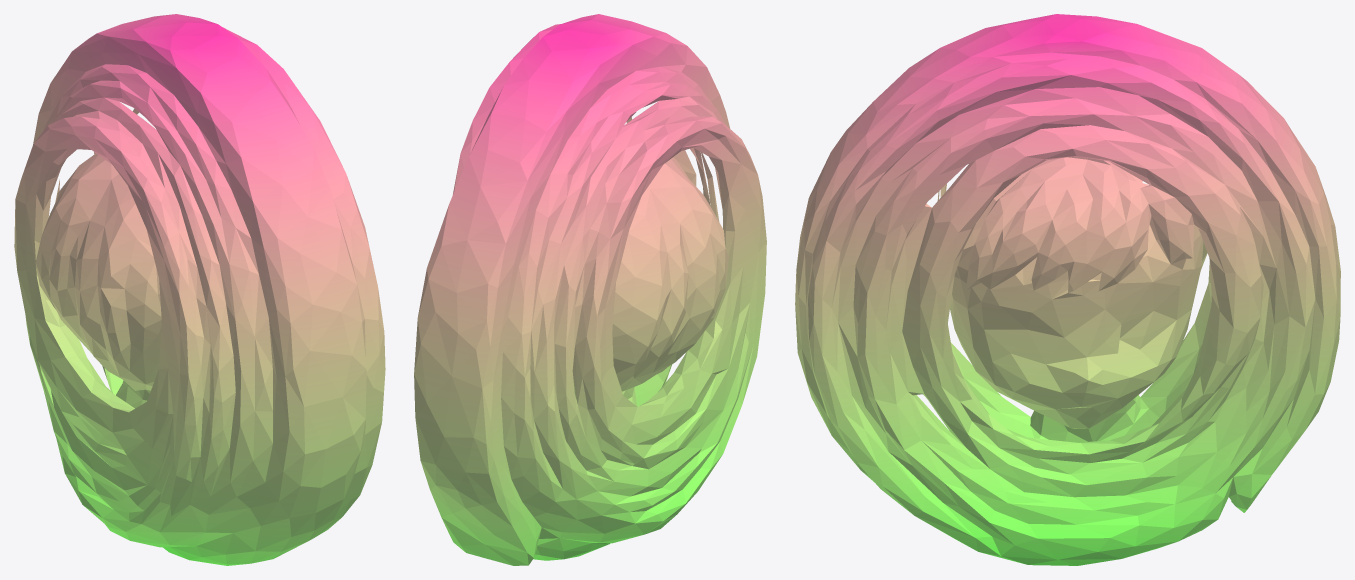
The model's file is 158_cyb_laser_gradient_fish_scales_2836_2026_10_03_63874f.glb.
The picture shows the model from 3 angles, left to right: view 1: azimuth 30°, elevation 25°; view 2: azimuth 150°, elevation 25°; view 3: azimuth 270°, elevation 25°; orthographic projection. The views are drawn at different scales.
Visible parts, largest first — view 1: geometry_0; view 2: geometry_0; view 3: geometry_0.
Part boxes in pixels (x1,y1,x2,y2): geometry_0: (14,14,385,565); geometry_0: (414,14,766,565); geometry_0: (795,14,1340,565).
Bounding box in the file's own units: 0.4796 × 1 × 0.9531.
